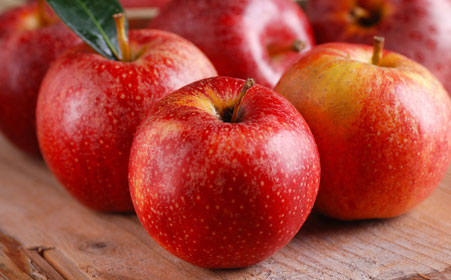fruit_apple: (126, 72, 324, 274), (34, 13, 219, 220), (279, 35, 451, 224)
